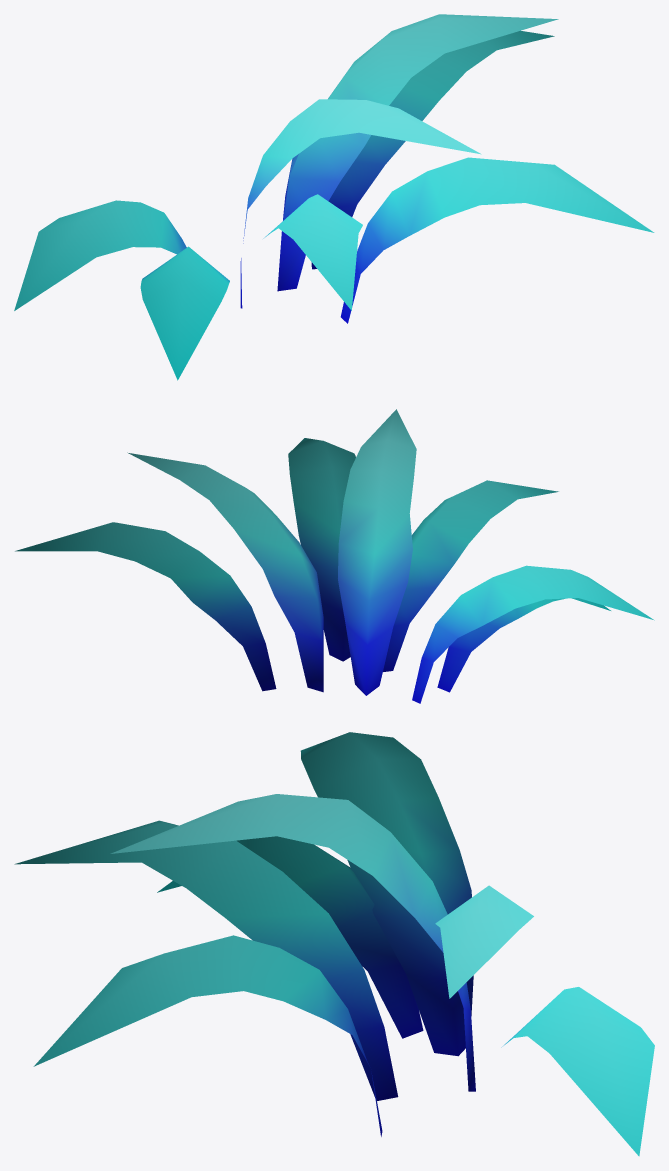
File: SM_Env_Fern_Part_02.gltf
3 views of the same model, one above another, from view 1: azimuth 30°, elevation 25°; view 2: azimuth 150°, elevation 25°; view 3: azimuth 270°, elevation 25° (orthographic). The views are drawn at different scales.
Parts seen in each view (by area): view 1: SM_Env_Fern_Part_02_LOD0; view 2: SM_Env_Fern_Part_02_LOD0; view 3: SM_Env_Fern_Part_02_LOD0.
Part boxes in pixels (x1,y1,x2,y2): SM_Env_Fern_Part_02_LOD0: (14, 14, 654, 380); SM_Env_Fern_Part_02_LOD0: (15, 409, 654, 703); SM_Env_Fern_Part_02_LOD0: (14, 732, 654, 1156).
Size of the model in its own units: 3.85 by 1.38 by 2.43.
